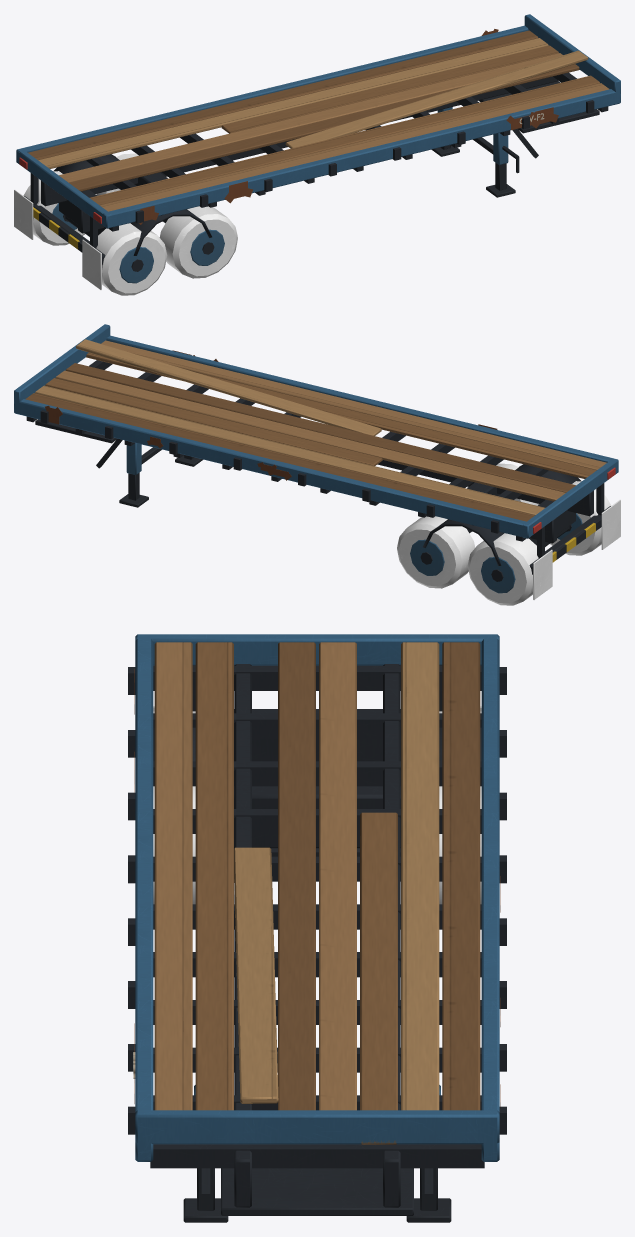
Rendered from flatbed_trailer.glb.
3 renders of one model, top to bottom at view 1: azimuth 30°, elevation 25°; view 2: azimuth 150°, elevation 25°; view 3: azimuth 270°, elevation 25°, orthographic. The views are drawn at different scales.
Visible parts, largest first — view 1: flatbed_trailer; view 2: flatbed_trailer; view 3: flatbed_trailer.
Part boxes in pixels (x1,y1,x2,y2): flatbed_trailer: [14, 14, 620, 295]; flatbed_trailer: [14, 324, 620, 605]; flatbed_trailer: [128, 634, 506, 1222].
Size of the model in its own units: 8.06 by 1.57 by 2.55.
18 materials, 18 textured.
